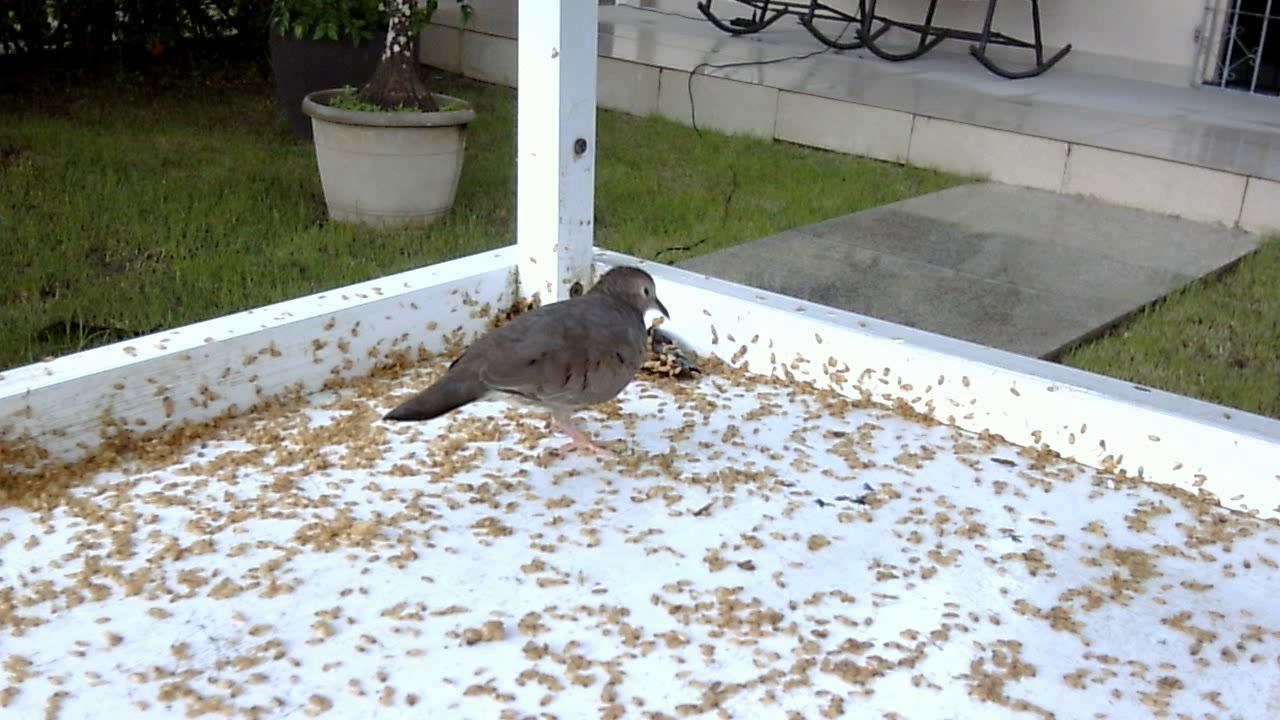rolinha: (370, 259, 693, 463)
